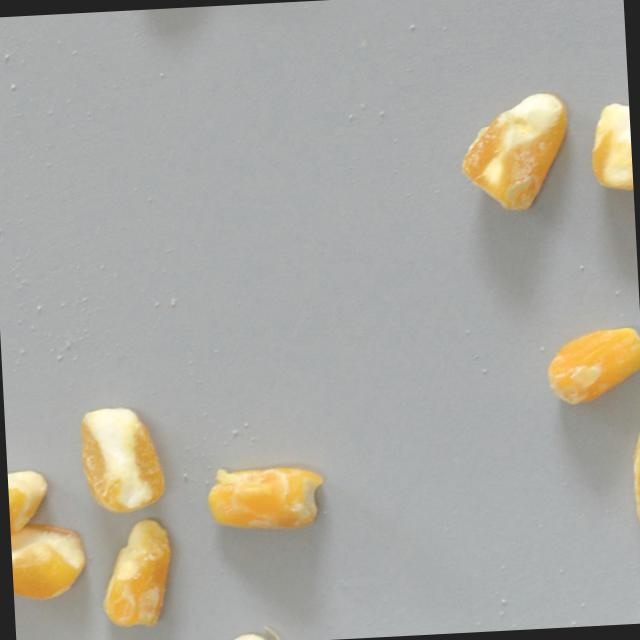estandar: (7, 468, 51, 545)
pelicula: (440, 93, 577, 197), (62, 405, 178, 511), (208, 454, 328, 536), (83, 541, 199, 610), (10, 520, 94, 607), (536, 324, 640, 393), (578, 110, 634, 192), (594, 420, 640, 516), (202, 627, 307, 640)
